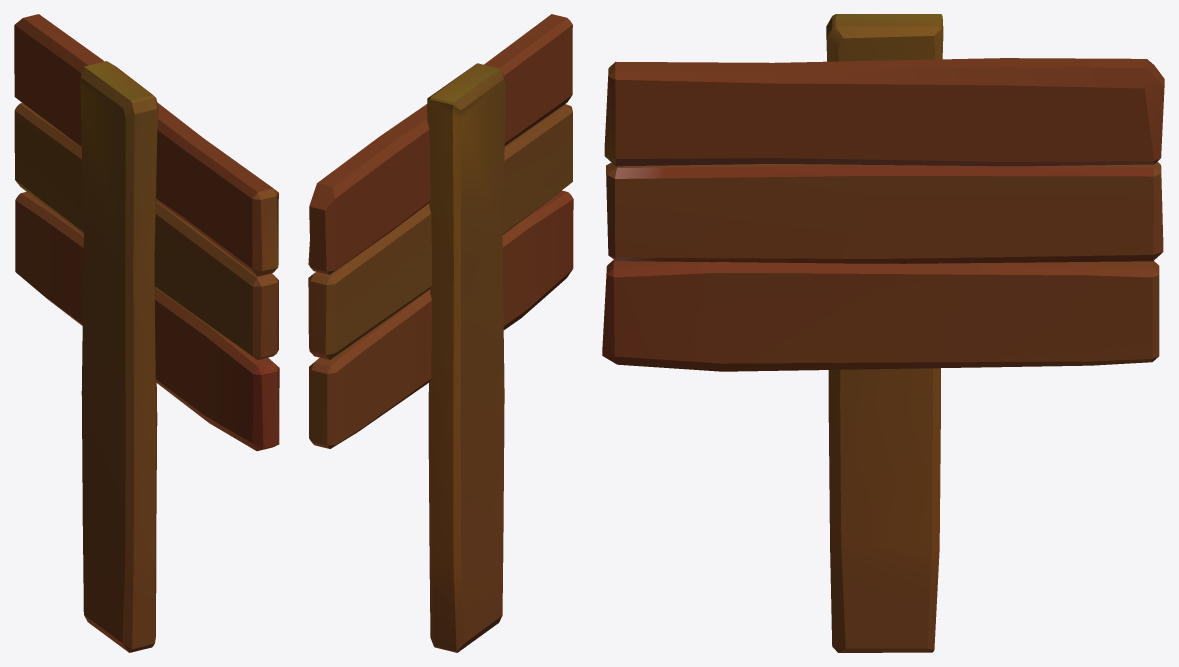
Rendered from sign.glb.
3 renders of one model, left to right at view 1: azimuth 30°, elevation 25°; view 2: azimuth 150°, elevation 25°; view 3: azimuth 270°, elevation 25°, orthographic. The views are drawn at different scales.
Parts seen in each view (by area): view 1: Cube; view 2: Cube; view 3: Cube.
Part boxes in pixels (x1=…): Cube: x1=14, y1=14, x2=279, y2=652; Cube: x1=308, y1=14, x2=573, y2=652; Cube: x1=602, y1=14, x2=1164, y2=652.
Size of the model in its own units: 0.2204 by 2 by 1.63.
1 material, 1 textured.
